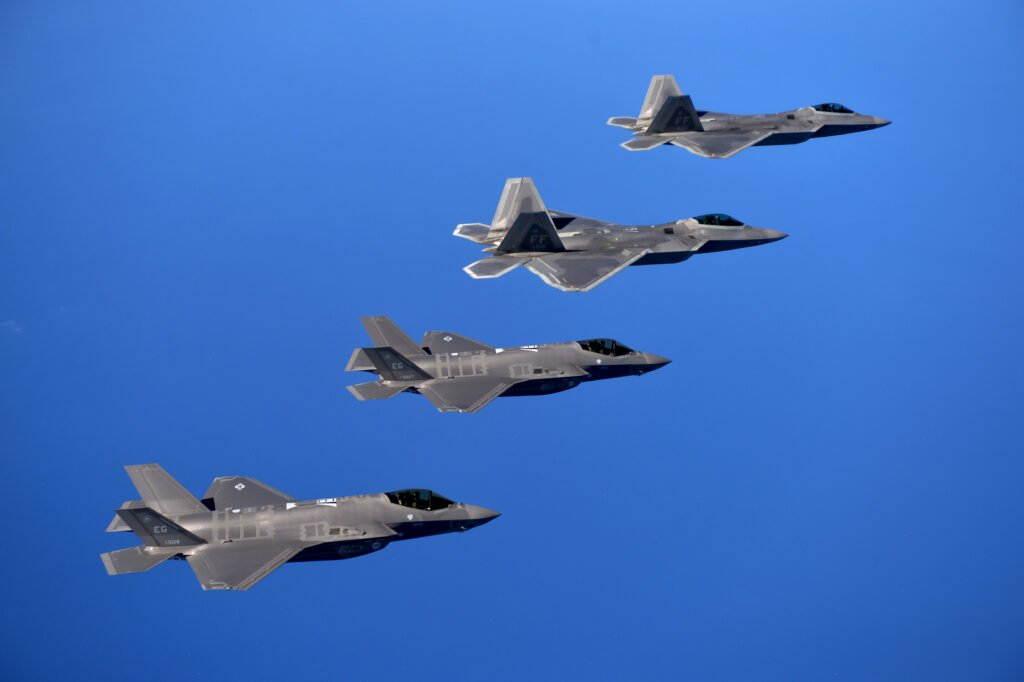F-22 Raptor: (438, 169, 819, 307), (601, 58, 898, 189)
F-35 Lightning: (51, 445, 535, 610), (339, 297, 718, 452)
